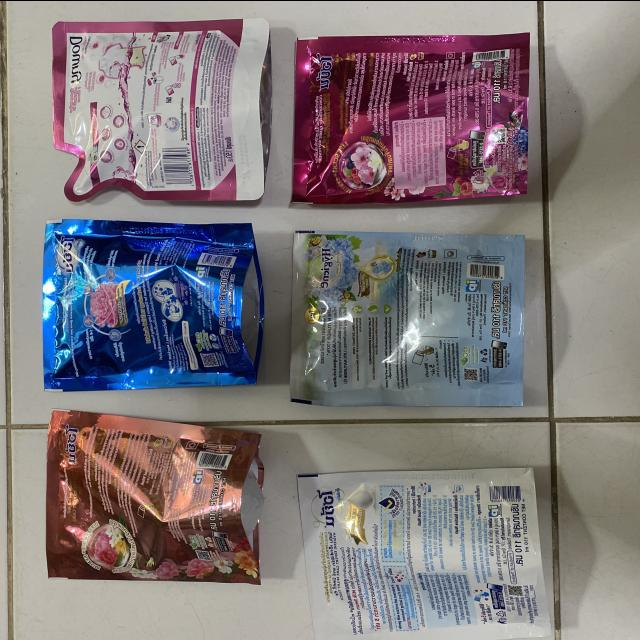plastik: (298, 468, 551, 640), (292, 31, 530, 203), (290, 231, 524, 405), (53, 17, 271, 200), (42, 219, 264, 390), (46, 409, 264, 583)
